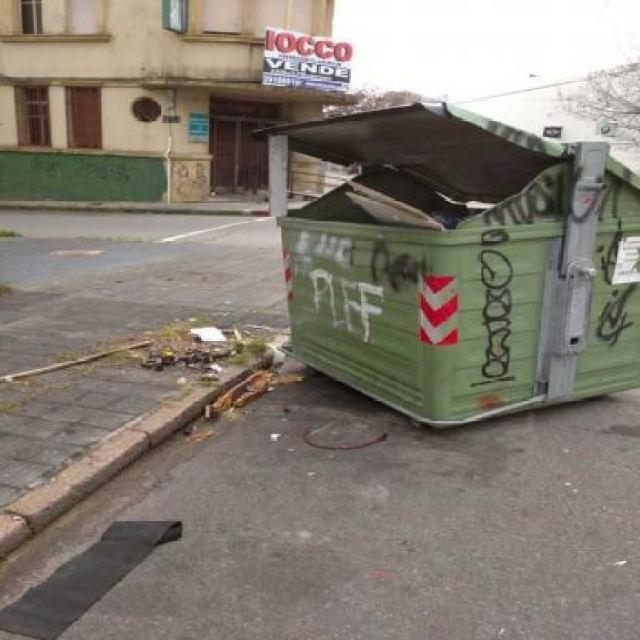garbage: (92, 308, 283, 454), (329, 162, 506, 227)
